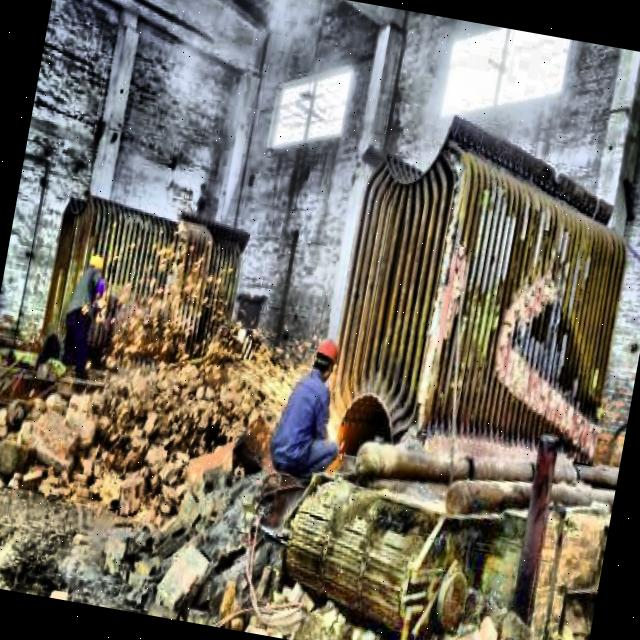helmet: (308, 330, 342, 386), (85, 250, 106, 280)
